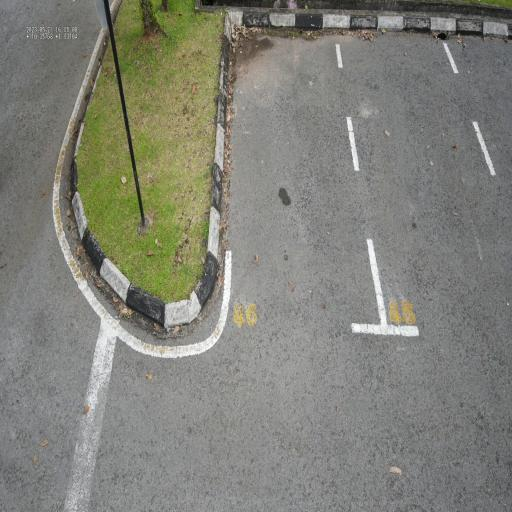Empty: (204, 17, 390, 362)
